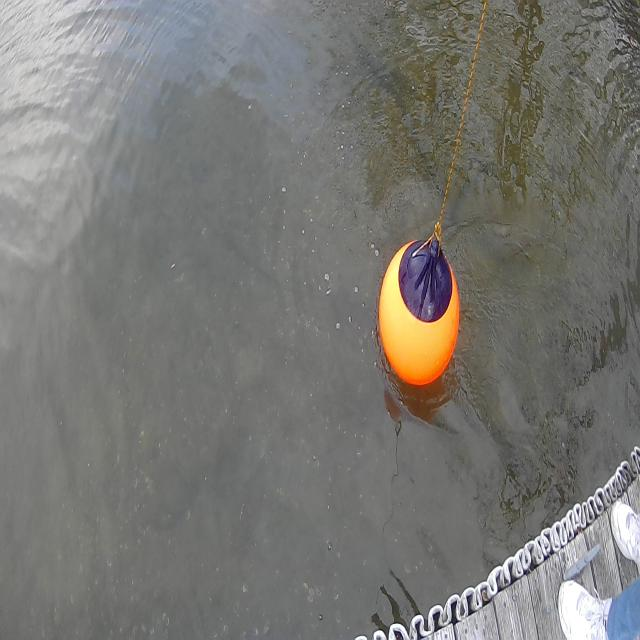Buoy: (374, 227, 464, 409)
